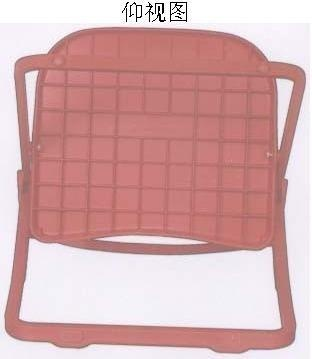obstacle: (5, 27, 304, 351)
